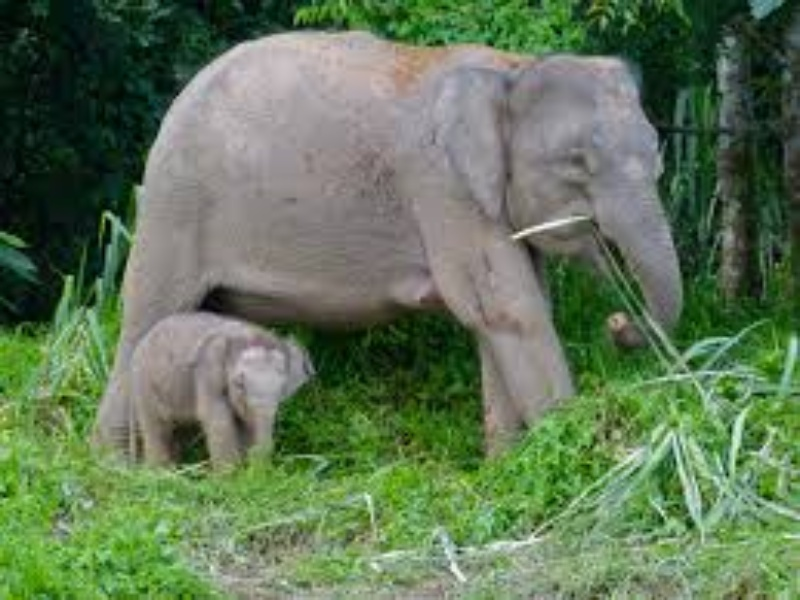elephant: (58, 21, 702, 493), (123, 322, 326, 477)
